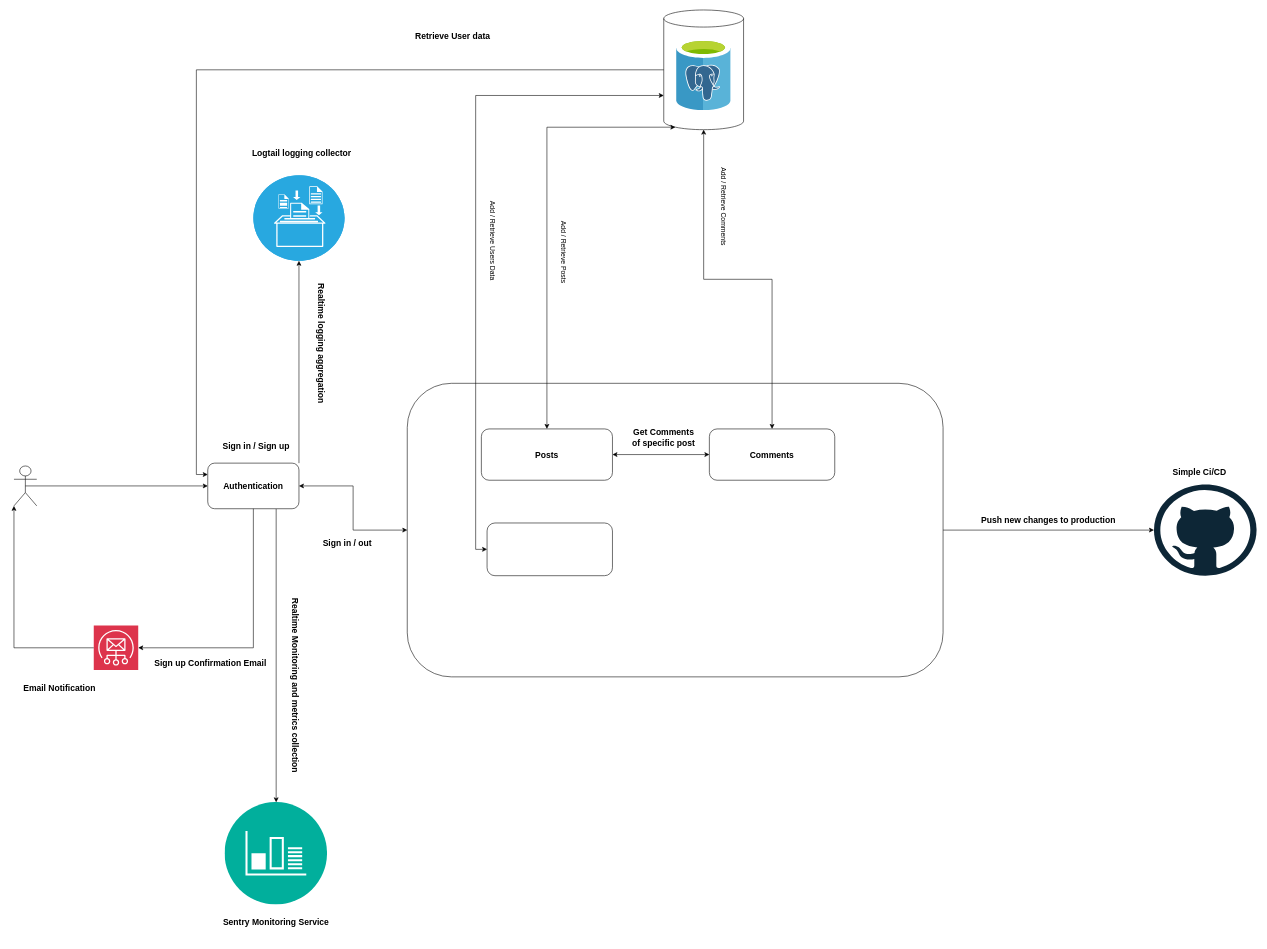
Image size: 1267x949. Some labels were removed from this diagram. Here are the shapes that lost their labels. From the top down, the centre of each, then its label:
At [25,485]: "Actor".
At [549,549]: "Users".
